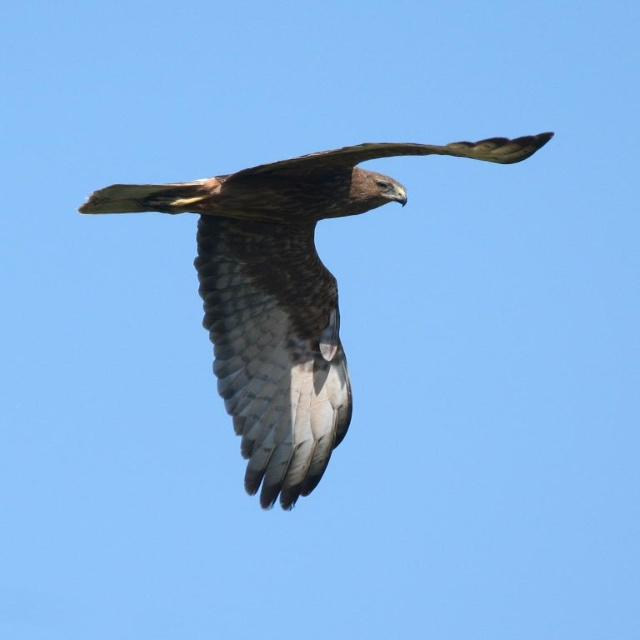Eagle: (73, 126, 564, 515)
